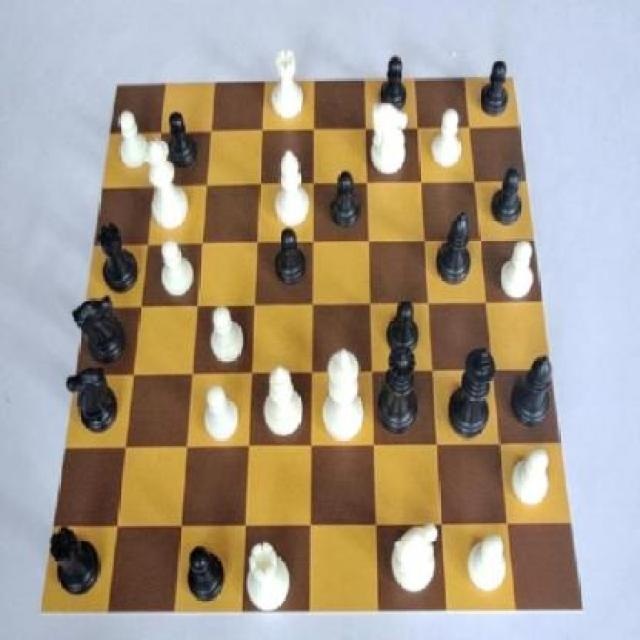bishop: (512, 351, 558, 441), (431, 208, 480, 290)
black-bishop: (451, 346, 499, 444)
black-king: (70, 296, 134, 366), (65, 368, 123, 443)
black-knight: (325, 168, 369, 243), (158, 106, 201, 179), (376, 50, 416, 126), (182, 543, 228, 605), (377, 297, 423, 357), (269, 226, 310, 290), (492, 158, 525, 227), (477, 55, 508, 121)
black-pawn: (378, 346, 424, 442)
black-queen: (43, 523, 103, 601), (92, 220, 141, 299)
black-rook: (260, 361, 302, 447), (272, 147, 310, 230)
white-bishop: (317, 345, 367, 446)
white-king: (386, 514, 446, 598), (368, 103, 410, 184)
white-knight: (206, 297, 249, 368), (494, 237, 540, 303), (111, 106, 152, 176), (426, 108, 469, 174), (200, 382, 239, 452), (466, 531, 509, 594), (158, 238, 197, 304), (512, 448, 552, 508)
white-pawn: (143, 136, 194, 240)
white-queen: (239, 538, 293, 611), (268, 49, 310, 124)
